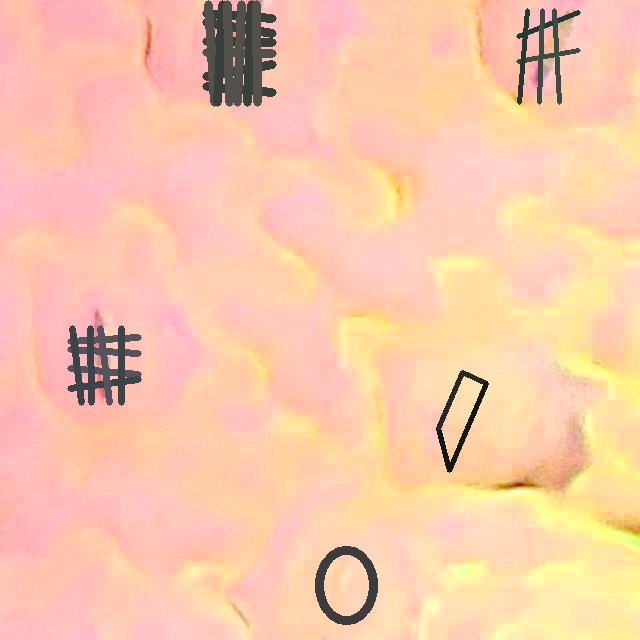close: (436, 371, 488, 472)
open: (203, 1, 276, 106), (517, 9, 580, 104), (67, 325, 140, 405), (314, 546, 377, 624)
